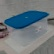plastic: (2, 16, 51, 47)
